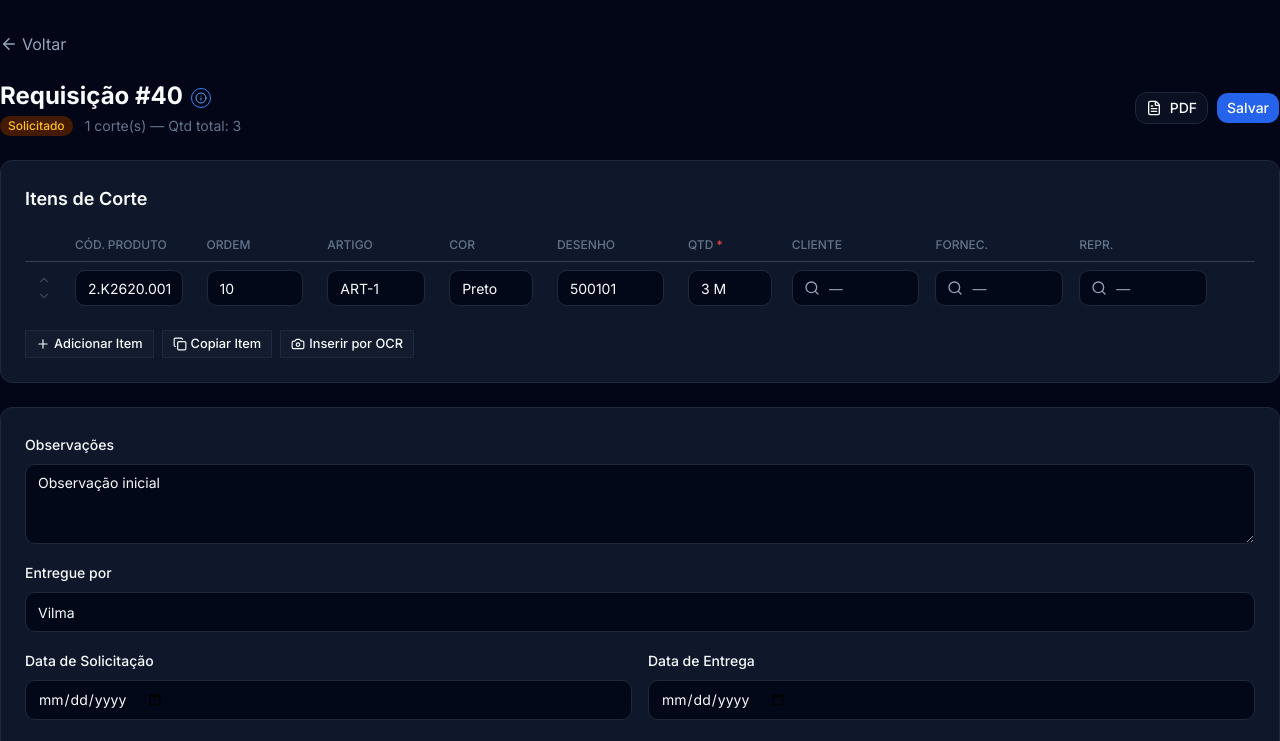
Test: DetalheRequisicaoCortePage › copia o último item ao usar Copiar Item
Expected: the 1st field showing "2.K2620.001" is shown, [75, 270, 183, 306]
Click the button "Copiar Item".
click(217, 344)  # box [162, 330, 272, 358]
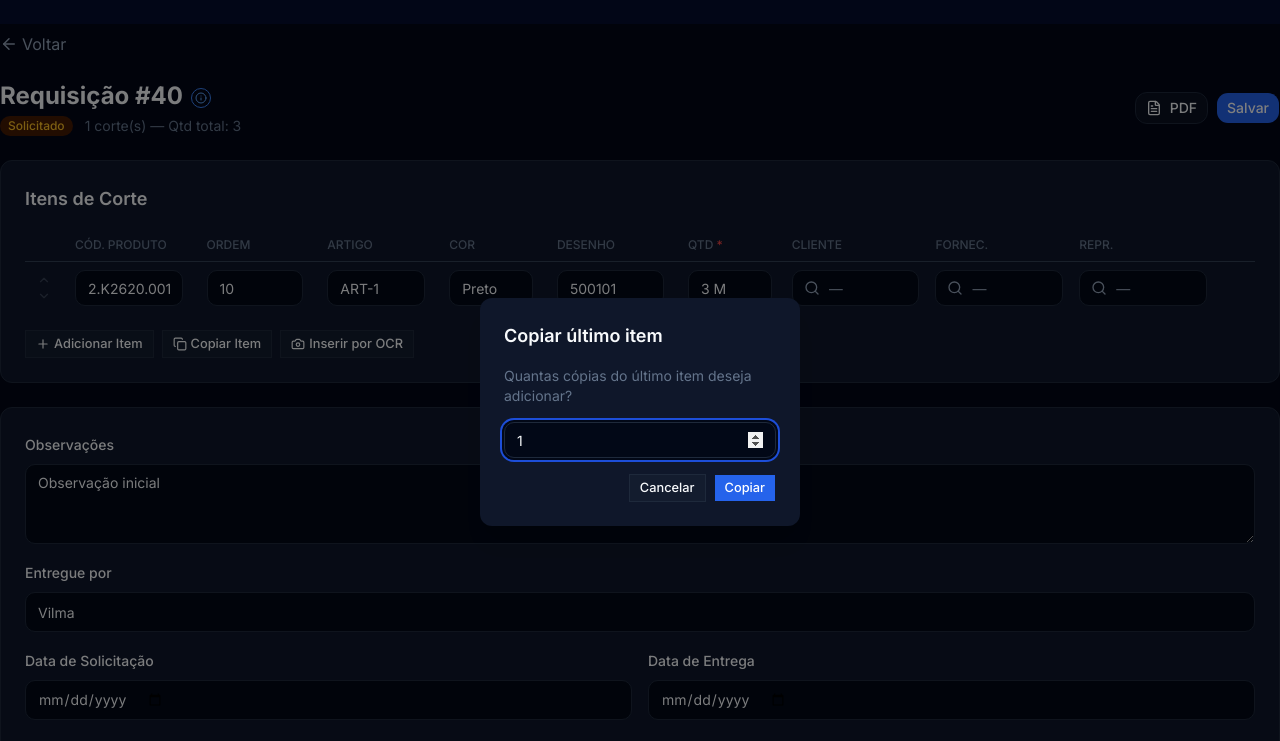
Expected: the text "Copiar último item" is shown, [504, 325, 663, 346]
Replace the text in the number field with "3" at (640, 440), box [504, 422, 776, 458]
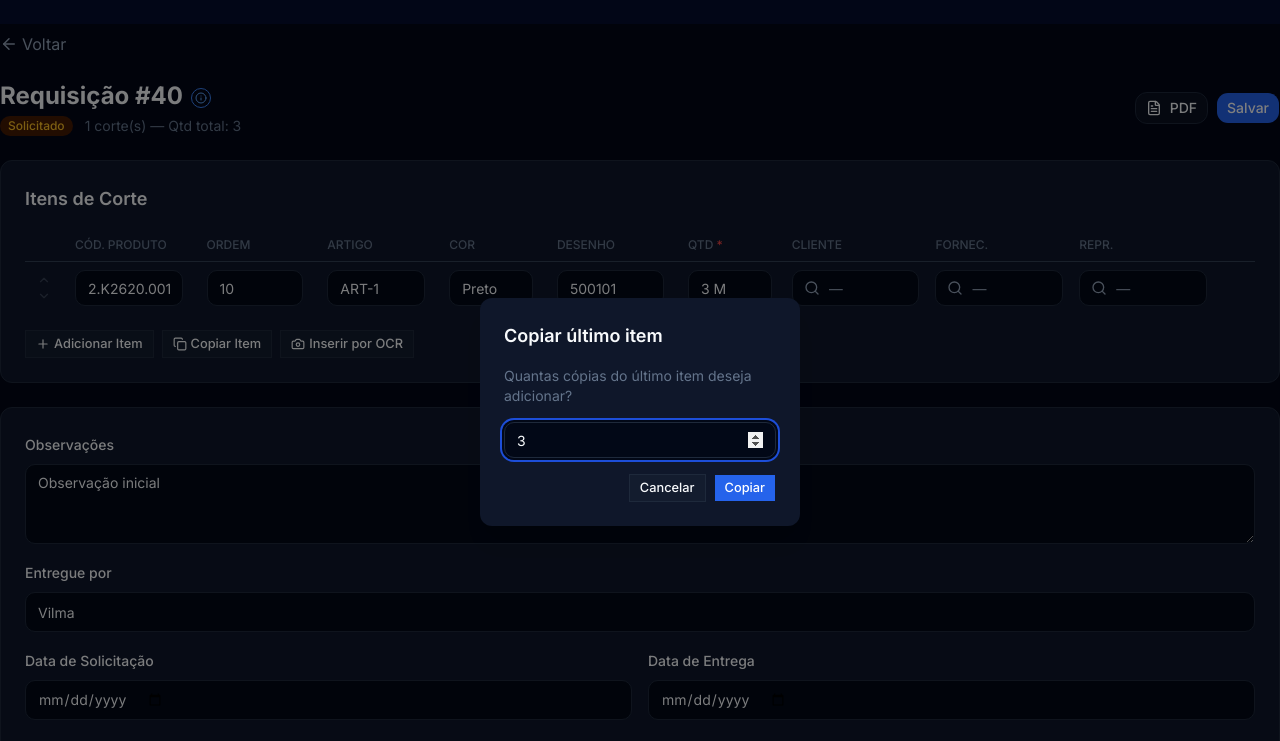
Click the button "Copiar".
click(745, 488)  # box [714, 474, 776, 502]
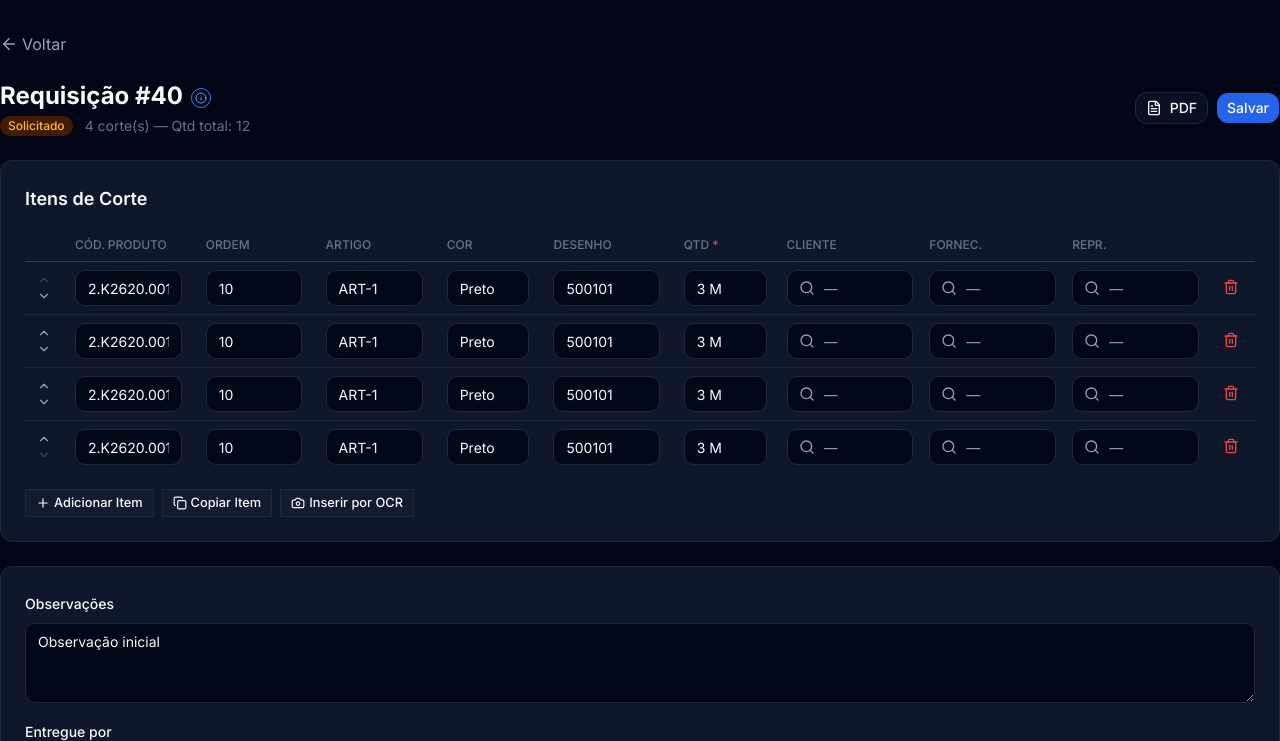
Expected: the number of fields showing "2.K2620.001" is 4, [75, 270, 182, 306]; [75, 323, 182, 359]; [75, 376, 182, 412]; [75, 429, 182, 465]
